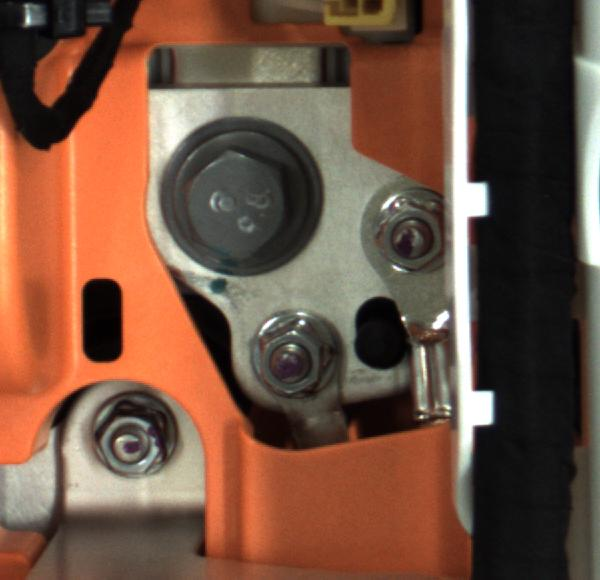nut_b: (155, 118, 324, 260)
screw_s: (248, 310, 348, 413), (82, 390, 182, 473), (362, 199, 453, 287)
